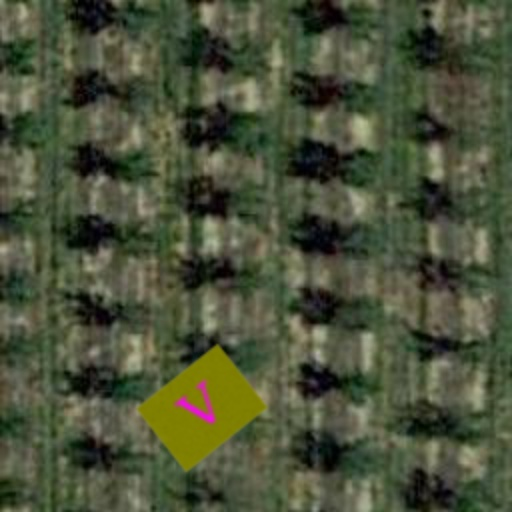rectangle: (128, 334, 276, 482)
